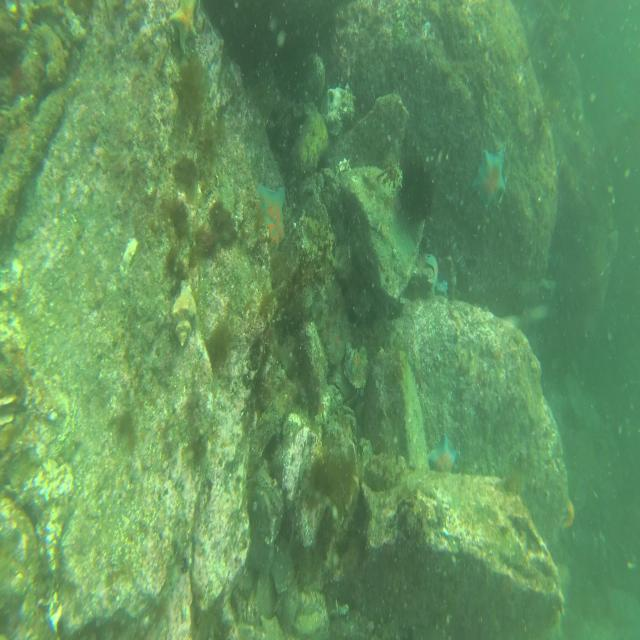echinus: (398, 156, 435, 228)
starfish: (258, 181, 288, 251), (474, 146, 506, 208), (426, 435, 461, 478), (171, 1, 197, 54), (424, 250, 442, 297)
